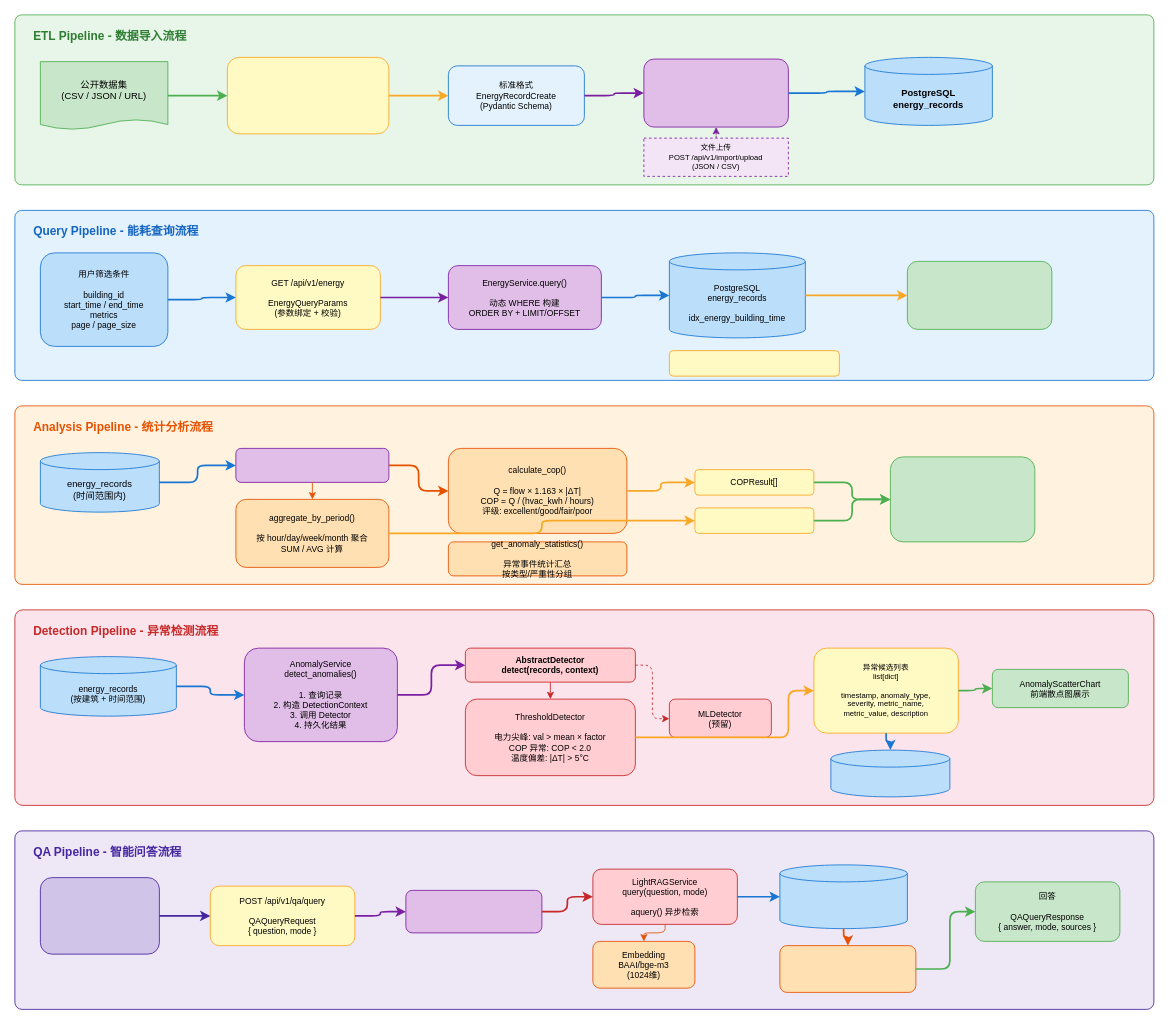
The diagram is 1169 pixels wide and 1024 high, and some of its shapes have lost their labels. The centre of each missing label's shape, as x and y in pixels:
AbstractETLAdapter extract() → DataFrame transform() → list[dict] load() → int: the point at 308,95
AggregationResult[]: the point at 754,520
anomaly_events 表 (持久化): the point at 890,773
ECharts 可视化 EnergyTrendChart EnergyDistributionChart: the point at 979,295
ImportService bulk_import_energy() 冲突处理 + 错误记录: the point at 715,92
LLM Qwen2.5-7B-Instruct (via SiliconFlow): the point at 847,968
PaginatedResponse {items, total, page, pages}: the point at 754,363
QAService ask(question, mode): the point at 473,911
StatisticsService: the point at 312,465
图表展示 COPTrendChart EnergyTrendChart EnergyDistributionChart: the point at 962,499
用户提问 question: 字符串 mode: hybrid/local/ global/naive: the point at 99,915
知识图谱 NetworkX Graph + NanoVectorDB: the point at 843,896
